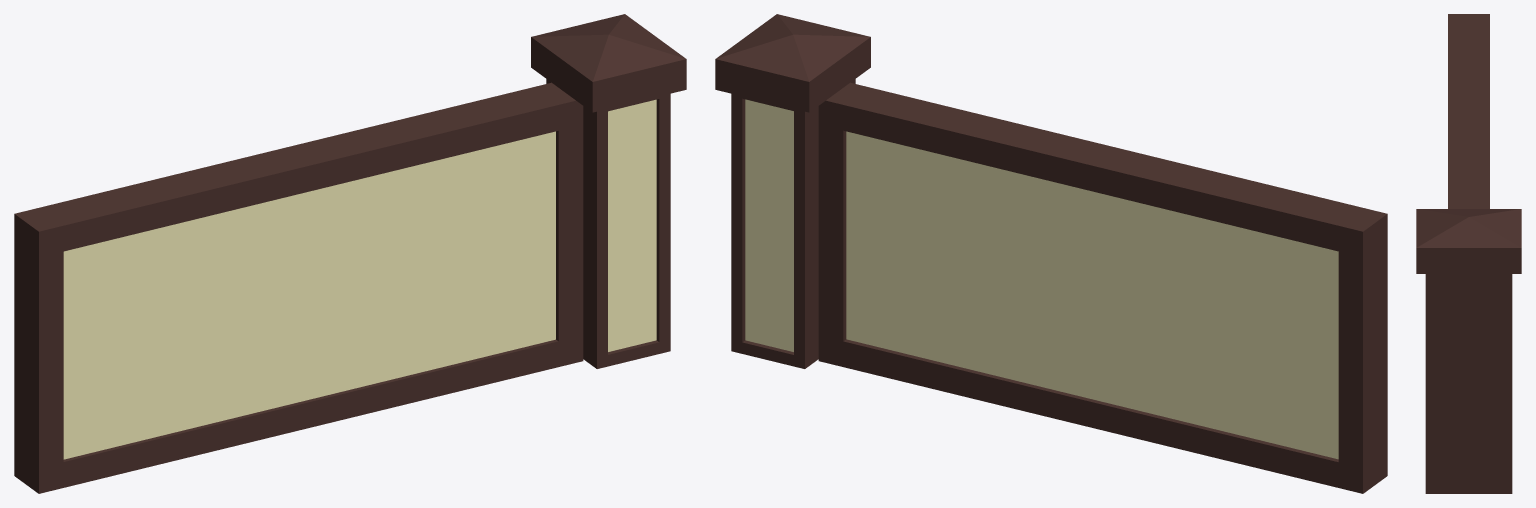
The model's file is Fence.fbx.
The picture shows the model from 3 angles, left to right: view 1: azimuth 30°, elevation 25°; view 2: azimuth 150°, elevation 25°; view 3: azimuth 270°, elevation 25°; orthographic projection. The views are drawn at different scales.
Parts seen in each view (by area): view 1: Stove_tile, Stove_edge, Pillar_tile, Pillar_edge, Dome; view 2: Stove_tile, Stove_edge, Pillar_tile, Pillar_edge, Dome; view 3: Pillar_edge, Stove_edge, Dome.
Part boxes in pixels (bbox=[...]): Stove_tile: bbox=[63, 131, 555, 459]; Stove_edge: bbox=[14, 82, 583, 493]; Pillar_tile: bbox=[608, 99, 656, 351]; Pillar_edge: bbox=[546, 79, 670, 368]; Dome: bbox=[531, 14, 686, 112]; Stove_tile: bbox=[846, 131, 1338, 459]; Stove_edge: bbox=[818, 82, 1387, 493]; Pillar_tile: bbox=[745, 99, 793, 351]; Pillar_edge: bbox=[731, 79, 855, 368]; Dome: bbox=[715, 14, 870, 112]; Pillar_edge: bbox=[1425, 274, 1512, 493]; Stove_edge: bbox=[1448, 14, 1489, 208]; Dome: bbox=[1416, 209, 1521, 273].
Size of the model in its own units: 502 by 235 by 85.17.
